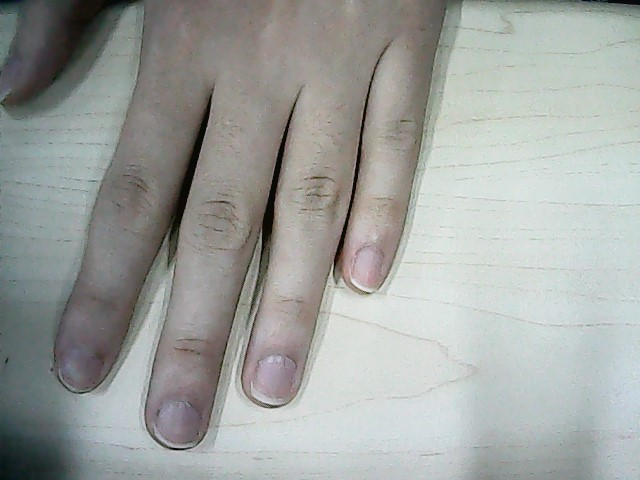nail: (157, 404, 202, 448), (255, 361, 295, 405), (65, 351, 98, 393), (353, 251, 381, 292)
